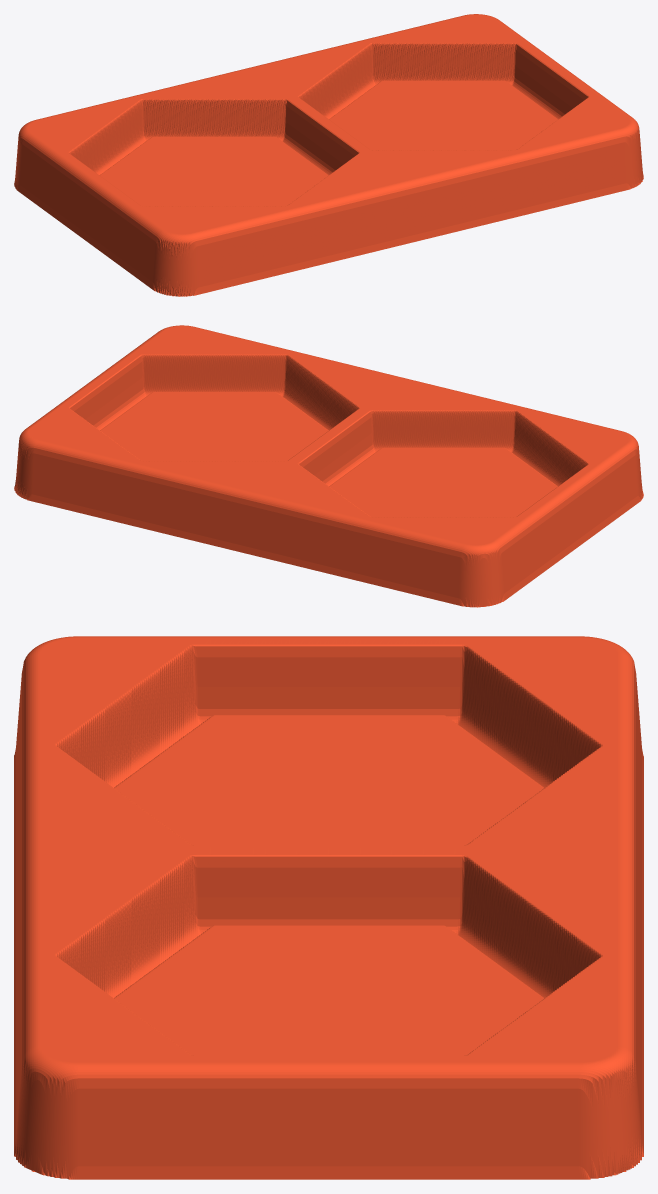
Rendered from mold.glb.
The picture shows the model from 3 angles, top to bottom: view 1: azimuth 30°, elevation 25°; view 2: azimuth 150°, elevation 25°; view 3: azimuth 270°, elevation 25°; orthographic projection. The views are drawn at different scales.
Visible parts, largest first — view 1: geometry_0; view 2: geometry_0; view 3: geometry_0.
Boxes of the visible parts, left/top/right/bottom form: geometry_0: left=14, top=14, right=643, bottom=296; geometry_0: left=14, top=325, right=643, bottom=607; geometry_0: left=14, top=636, right=643, bottom=1179.
Size of the model in its own units: 0.1488 by 0.0165 by 0.0887.
